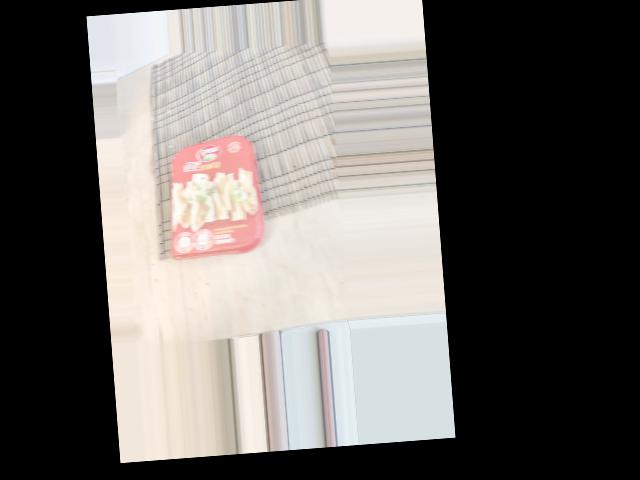cheese: (211, 123, 351, 220)
